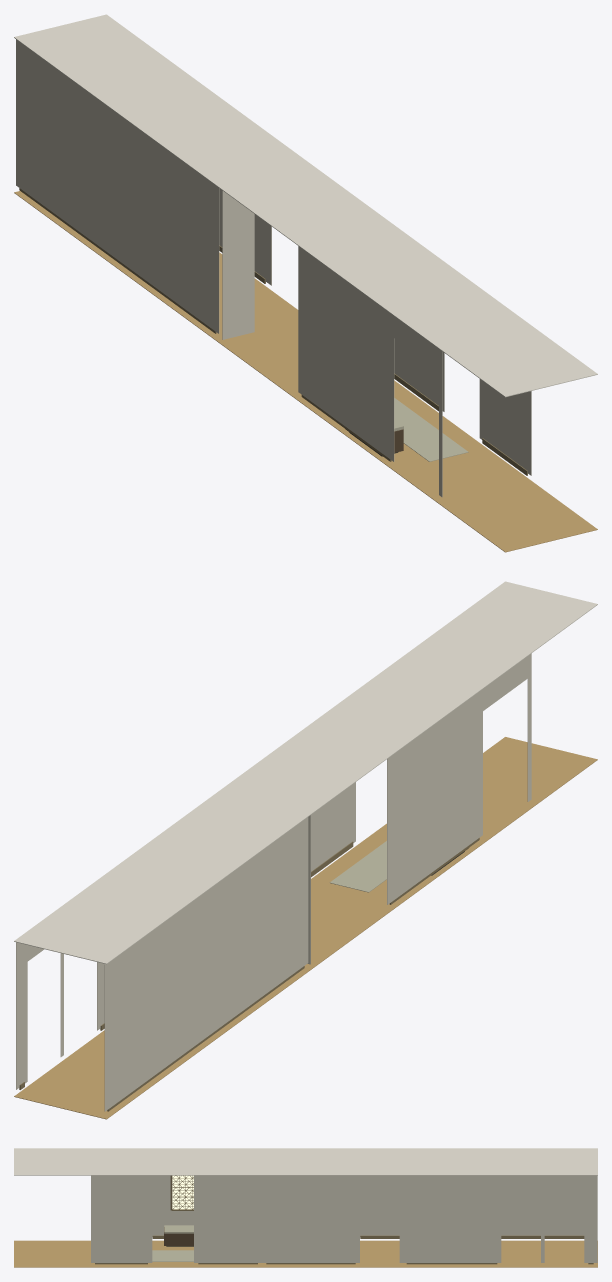
Rendered from corridor-2.glb.
The picture shows the model from 3 angles, top to bottom: view 1: azimuth 30°, elevation 25°; view 2: azimuth 150°, elevation 25°; view 3: azimuth 270°, elevation 25°; orthographic projection. The views are drawn at different scales.
Parts seen in each view (by area): view 1: DESIGN | Entrance coordinated ceiling, DESIGN | Entrance paired wall finish, DESIGN | Entrance floor finish, DESIGN | Entrance paired wall finish.003, DESIGN | Arch approach finish, DESIGN | Entrance paired wall finish.013, DESIGN | Entrance quiet runner, DESIGN | Entrance paired wall finish.012, DESIGN | Entrance paired wall finish.006, DESIGN | Entrance paired wall finish.002; view 2: DESIGN | Entrance coordinated ceiling, DESIGN | Entrance paired wall finish, DESIGN | Entrance floor finish, DESIGN | Entrance paired wall finish.003, DESIGN | Entrance paired wall finish.012, DESIGN | Entrance paired wall finish.005, DESIGN | Entrance quiet runner, DESIGN | Entrance paired wall finish.002, DESIGN | Entrance paired wall finish.001; view 3: DESIGN | Entrance coordinated ceiling, DESIGN | Entrance paired wall finish.006, DESIGN | Entrance paired wall finish.009, DESIGN | Entrance floor finish, DESIGN | Entrance paired wall finish.012, DESIGN | Entrance paired wall finish, DESIGN | Entrance paired wall finish.013, DESIGN | Entrance paired wall finish.003, DESIGN | Entrance paired wall finish.005, DESIGN | Kumiko opal diffuser, DESIGN | Entrance paired wall finish.007, DESIGN | Entrance paired wall finish.010 (+8 smaller).
Boxes of the visible parts, x1,y1,x2,y2 form: DESIGN | Entrance coordinated ceiling: (14, 14, 597, 397); DESIGN | Entrance paired wall finish: (16, 39, 219, 333); DESIGN | Entrance floor finish: (14, 191, 597, 552); DESIGN | Entrance paired wall finish.003: (298, 246, 394, 461); DESIGN | Arch approach finish: (222, 190, 254, 339); DESIGN | Entrance paired wall finish.013: (479, 379, 531, 475); DESIGN | Entrance quiet runner: (394, 398, 468, 461); DESIGN | Entrance paired wall finish.012: (394, 339, 444, 411); DESIGN | Entrance paired wall finish.006: (219, 188, 268, 283); DESIGN | Entrance paired wall finish.002: (394, 316, 438, 370); DESIGN | Entrance coordinated ceiling: (14, 581, 597, 964); DESIGN | Entrance paired wall finish: (104, 817, 308, 1111); DESIGN | Entrance floor finish: (14, 737, 597, 1119); DESIGN | Entrance paired wall finish.003: (387, 689, 482, 904); DESIGN | Entrance paired wall finish.012: (311, 782, 355, 871); DESIGN | Entrance paired wall finish.005: (16, 942, 27, 1089); DESIGN | Entrance quiet runner: (329, 841, 386, 892); DESIGN | Entrance paired wall finish.002: (483, 656, 527, 710); DESIGN | Entrance paired wall finish.001: (527, 653, 531, 801); DESIGN | Entrance coordinated ceiling: (14, 1148, 597, 1175); DESIGN | Entrance paired wall finish.006: (402, 1175, 501, 1262); DESIGN | Entrance paired wall finish.009: (262, 1175, 359, 1262); DESIGN | Entrance floor finish: (14, 1240, 597, 1267); DESIGN | Entrance paired wall finish.012: (194, 1175, 262, 1262); DESIGN | Entrance paired wall finish: (360, 1176, 584, 1236); DESIGN | Entrance paired wall finish.013: (91, 1175, 152, 1262); DESIGN | Entrance paired wall finish.003: (152, 1175, 193, 1236); DESIGN | Entrance paired wall finish.005: (584, 1175, 597, 1262); DESIGN | Kumiko opal diffuser: (172, 1175, 193, 1209); DESIGN | Entrance paired wall finish.007: (501, 1175, 540, 1191); DESIGN | Entrance paired wall finish.010: (360, 1175, 399, 1191).
Bounding box in the file's own units: 1.7 × 2.73 × 15.61.
